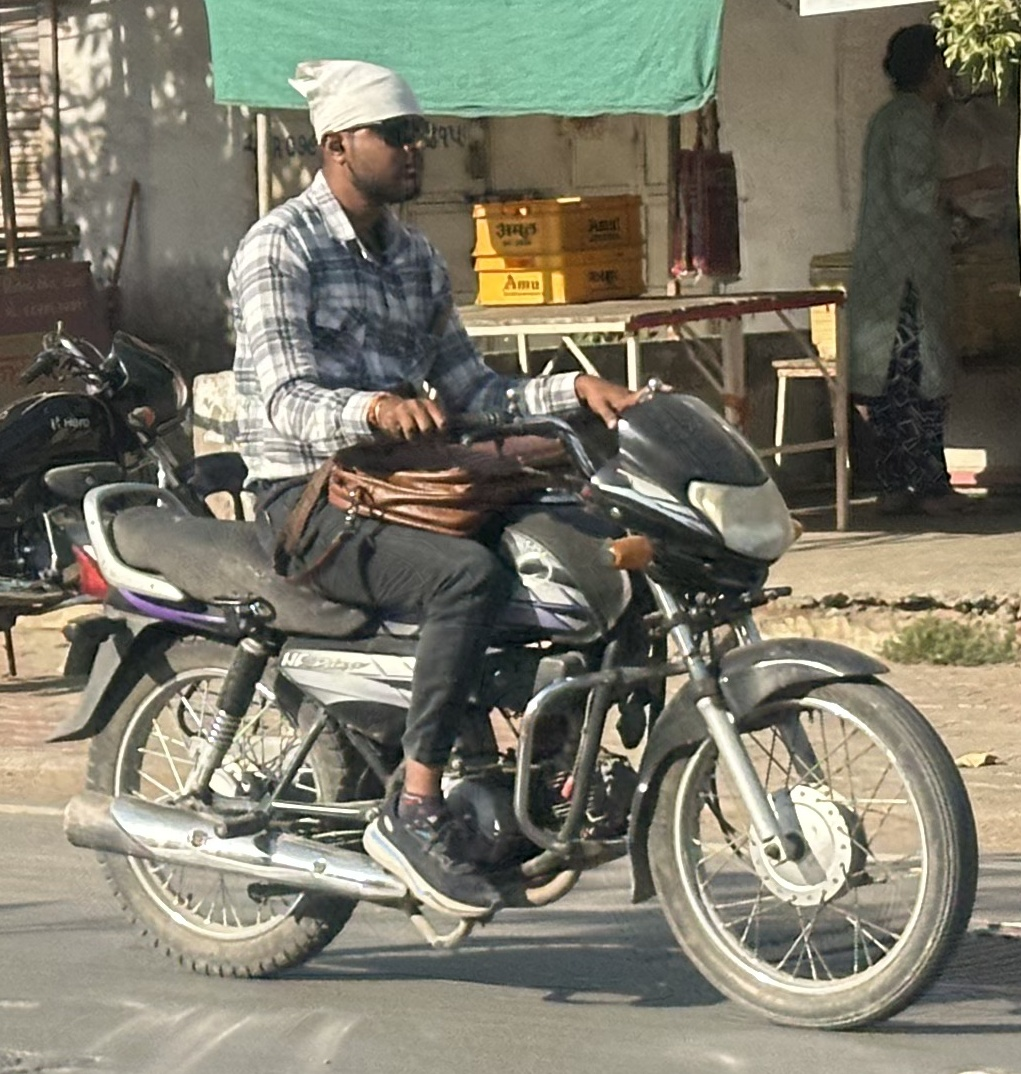BikeWithRider: (46, 59, 983, 1026)
NoHelmet: (297, 59, 430, 206)
